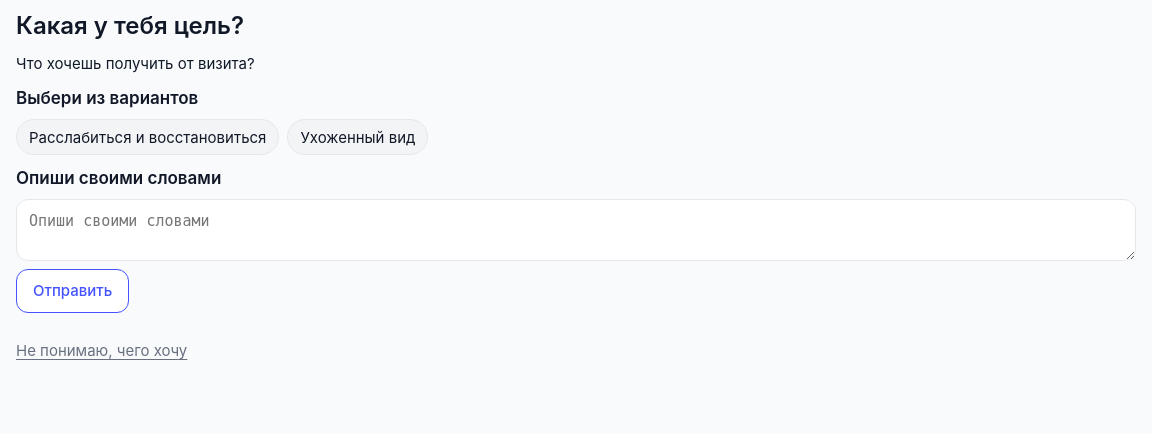
Scenario: GoalSelectScreen (dumb renderer over the decision document) › failed POST keeps the old document and shows an inline error
Click the radio button labelled "Расслабиться и восстановиться".
click(148, 137)  # box x1=16 y1=119 x2=279 y2=155
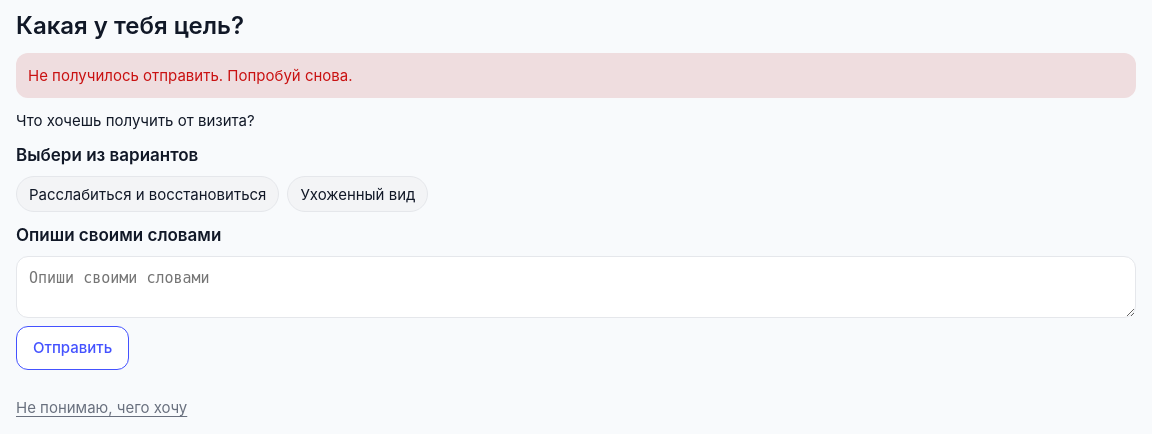
Expected: the text "Что хочешь получить от визита?" is shown, x1=16 y1=111 x2=255 y2=130
Expected: the message shows "Не получилось отправить", x1=28 y1=66 x2=352 y2=85
